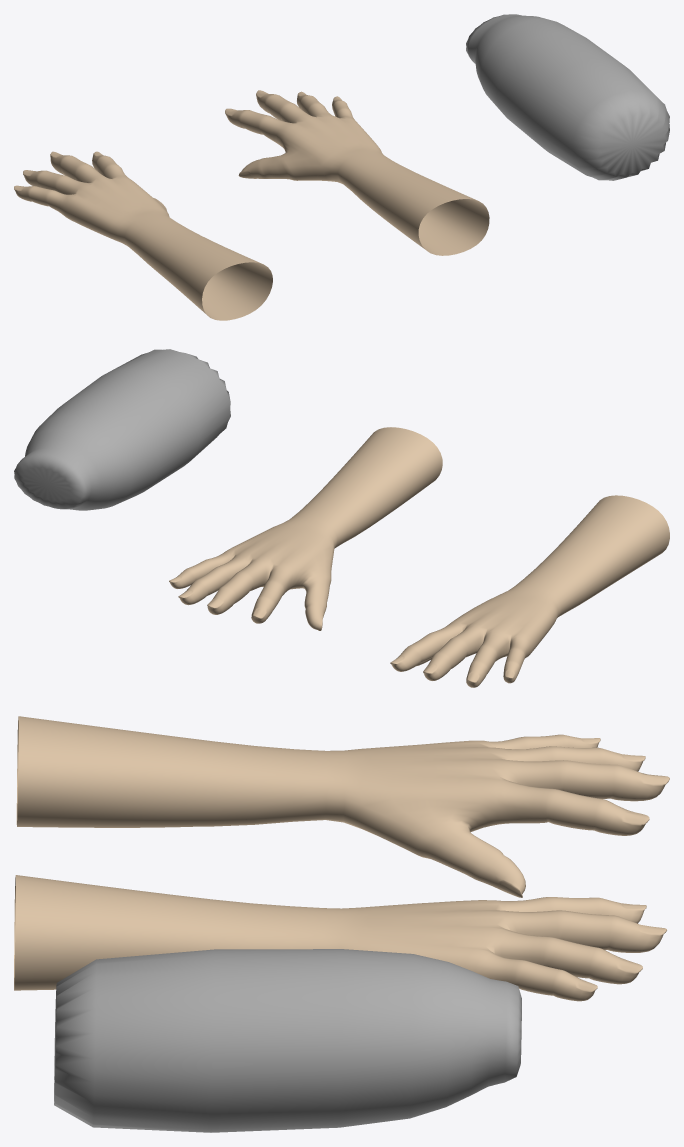
The model's file is ManosyBrazo.fbx.
3 renders of one model, top to bottom at view 1: azimuth 30°, elevation 25°; view 2: azimuth 150°, elevation 25°; view 3: azimuth 270°, elevation 25°, orthographic. The views are drawn at different scales.
Visible parts, largest first — view 1: Brazo, Mano_con_brazoDER, Mano_con_brazoIZQ; view 2: Brazo, Mano_con_brazoDER, Mano_con_brazoIZQ; view 3: Brazo, Mano_con_brazoIZQ, Mano_con_brazoDER.
Part boxes in pixels (x1,y1,x2,y2): Brazo: (466,14,669,180); Mano_con_brazoDER: (225,90,489,255); Mano_con_brazoIZQ: (14,151,272,320); Brazo: (14,349,230,510); Mano_con_brazoDER: (169,427,442,630); Mano_con_brazoIZQ: (390,495,669,687); Brazo: (54,949,521,1132); Mano_con_brazoIZQ: (16,716,669,897); Mano_con_brazoDER: (14,875,666,1001).
Size of the model in its own units: 6.36 by 1.54 by 4.09.
